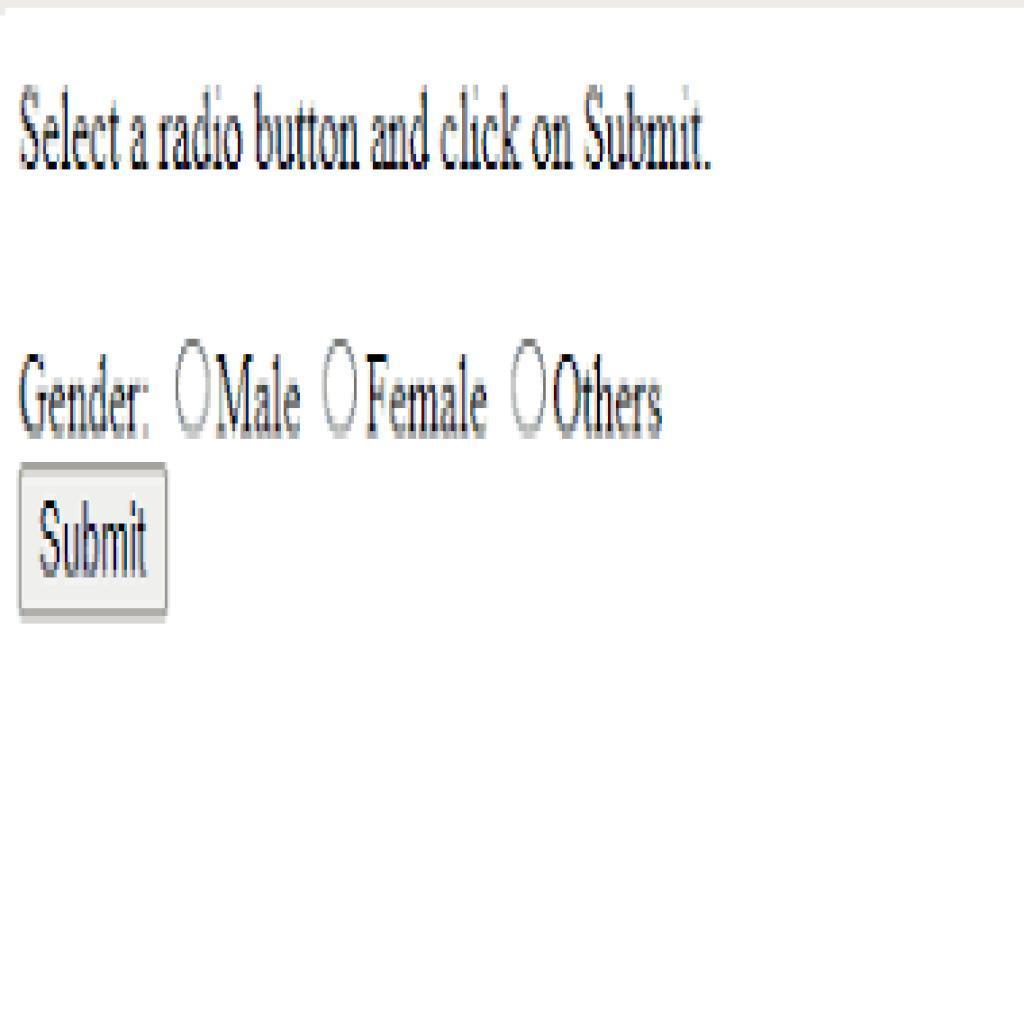button: (19, 469, 168, 614)
radio: (315, 334, 363, 438), (169, 335, 217, 436), (507, 339, 555, 440)
